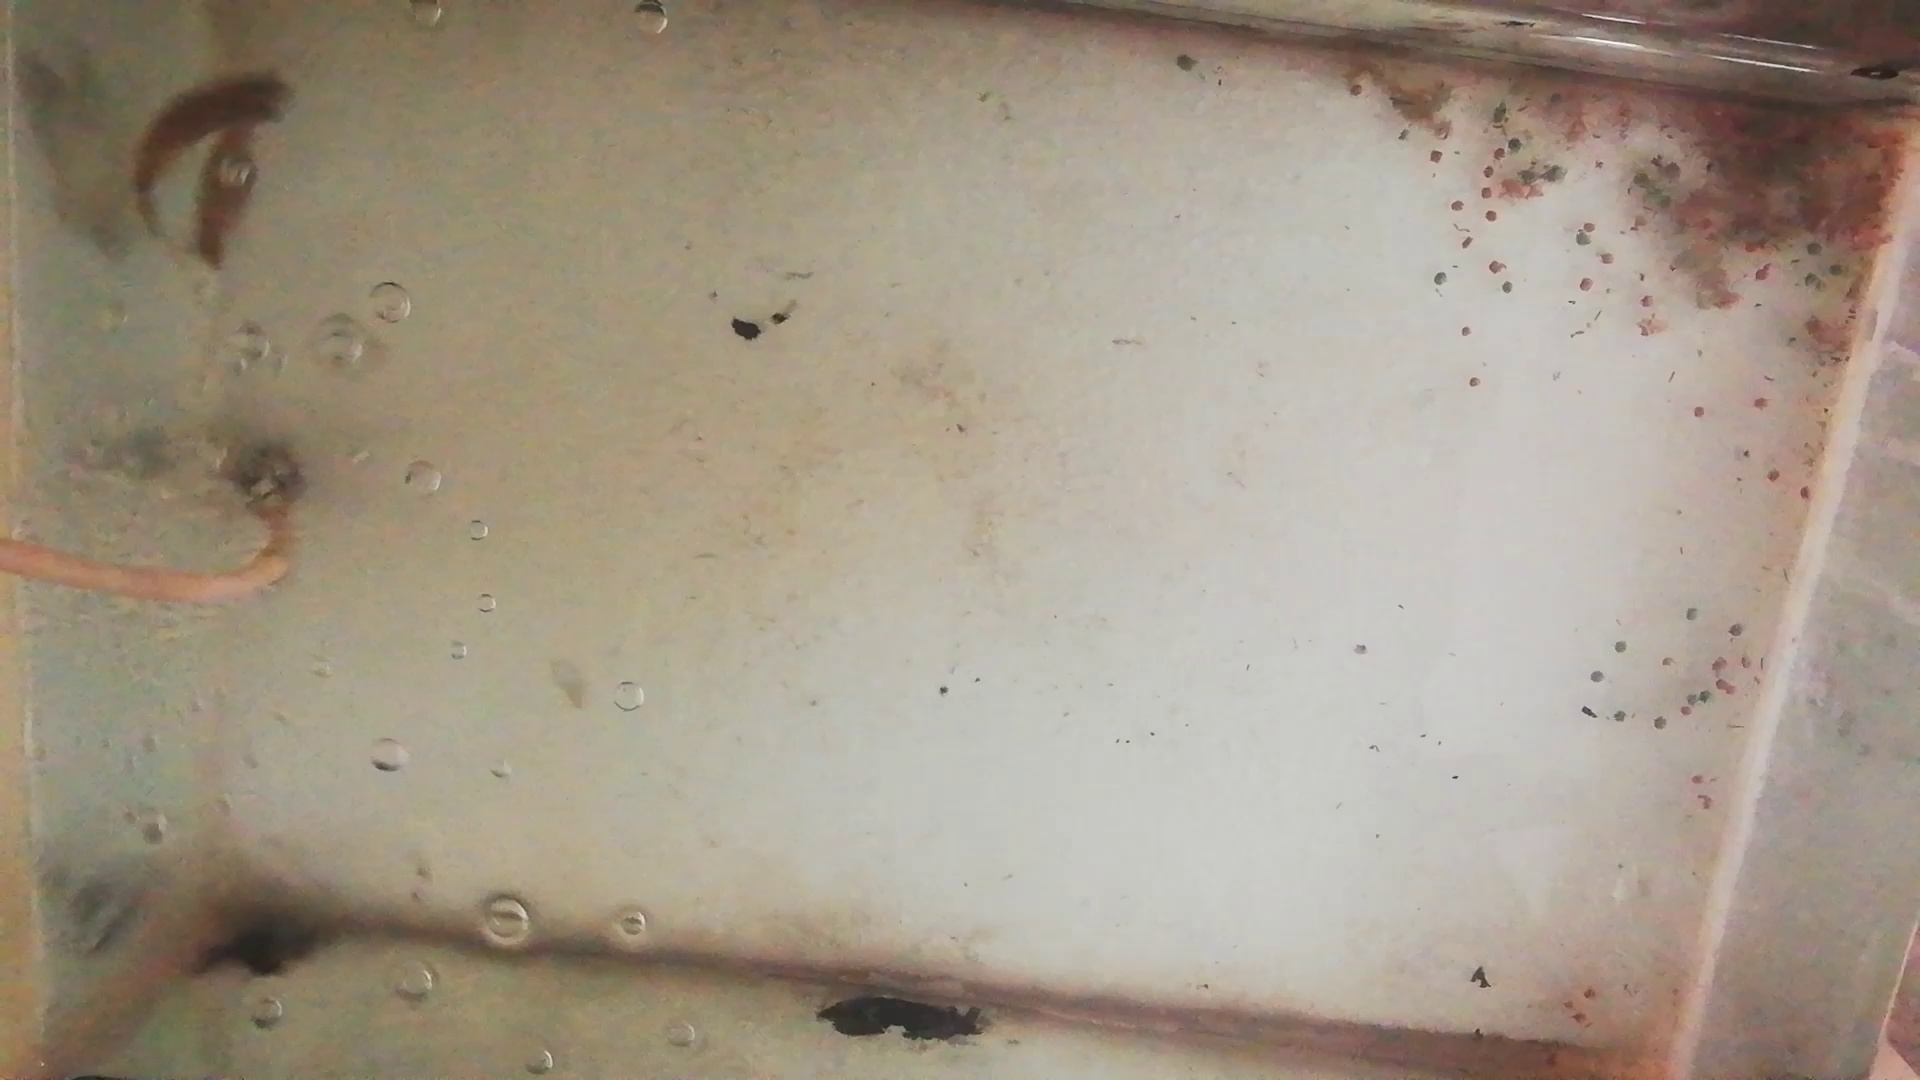fish: (131, 62, 295, 218), (193, 116, 260, 272)
